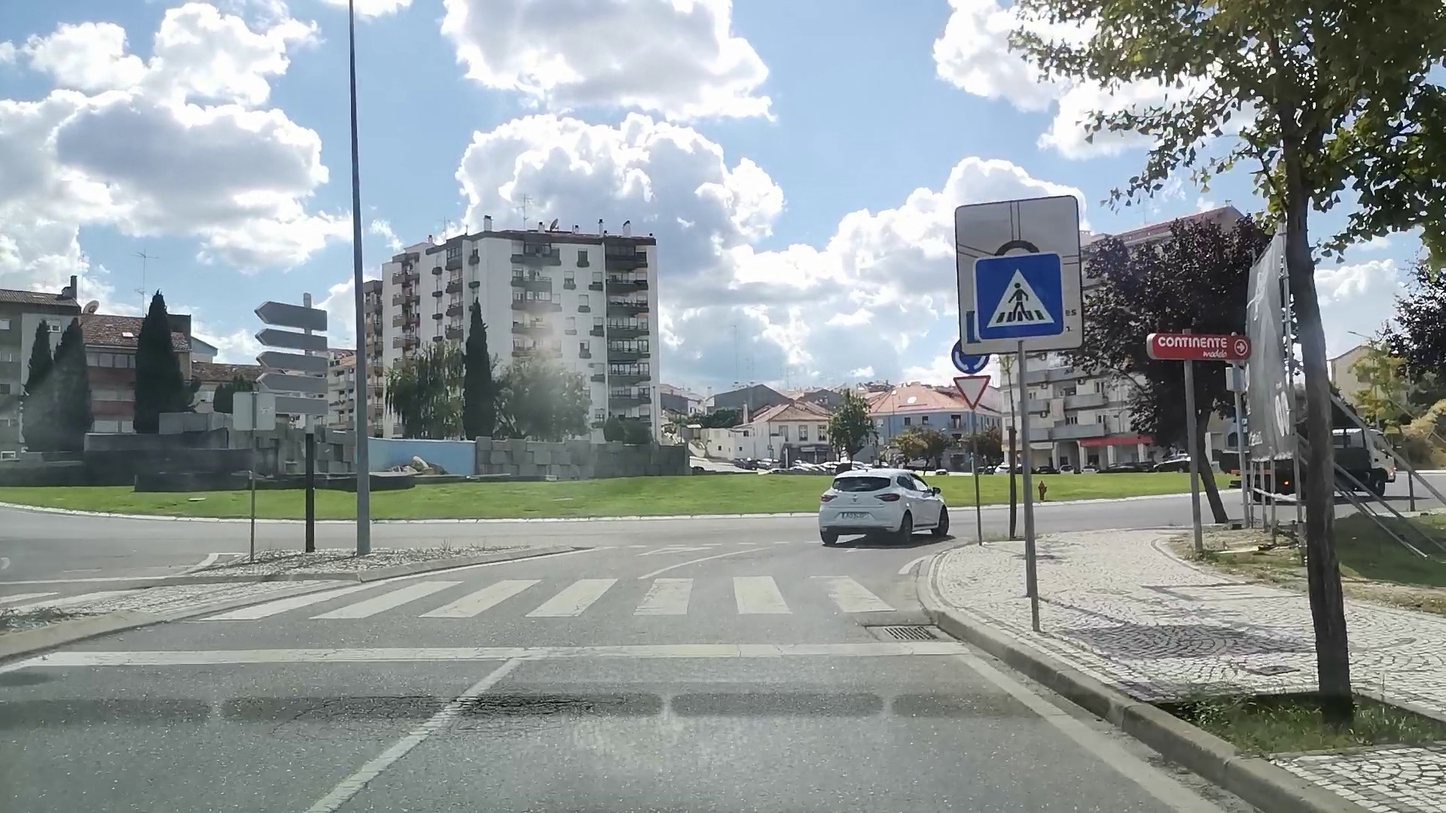Stairs: (198, 561, 897, 630)
